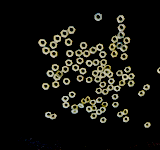nut: (95, 12, 103, 22), (38, 39, 48, 47), (117, 15, 126, 23), (61, 29, 69, 38), (54, 34, 62, 43), (49, 41, 58, 49), (42, 46, 50, 55), (118, 31, 126, 39), (68, 26, 76, 34), (50, 50, 58, 58), (65, 38, 73, 46), (80, 42, 88, 50), (116, 42, 124, 50), (109, 43, 117, 51), (121, 53, 129, 61), (90, 46, 98, 54), (83, 50, 91, 58), (66, 50, 74, 58), (65, 59, 73, 67), (52, 64, 60, 72), (72, 64, 80, 72), (52, 81, 60, 89), (121, 44, 128, 53), (118, 24, 126, 31), (112, 35, 119, 43), (97, 43, 104, 51), (111, 50, 118, 58), (99, 51, 107, 58), (76, 49, 83, 57), (86, 60, 94, 67), (77, 57, 84, 65), (62, 66, 69, 74), (56, 71, 64, 78), (116, 70, 124, 77), (86, 76, 93, 84), (143, 84, 151, 91), (138, 90, 146, 97), (42, 83, 50, 90), (63, 78, 71, 85), (128, 80, 136, 87), (108, 78, 116, 85), (124, 37, 131, 44), (125, 66, 132, 73), (101, 59, 108, 66), (93, 59, 100, 66), (54, 74, 61, 81), (105, 65, 112, 72), (97, 66, 104, 73), (80, 68, 87, 75), (92, 70, 99, 77), (104, 68, 111, 75), (107, 71, 114, 78), (100, 72, 107, 79), (95, 76, 102, 83), (77, 75, 84, 82), (129, 73, 136, 80), (122, 74, 129, 81), (119, 80, 126, 87), (114, 85, 121, 92), (96, 88, 103, 95), (122, 109, 129, 116), (69, 92, 76, 99), (63, 102, 70, 109), (50, 113, 57, 120), (96, 97, 103, 104), (81, 98, 88, 105), (100, 117, 107, 124), (86, 106, 93, 113), (91, 113, 98, 120), (47, 71, 55, 77), (102, 89, 110, 95), (112, 102, 120, 108), (62, 96, 70, 102), (99, 107, 107, 113), (100, 82, 107, 88), (108, 85, 115, 91), (112, 94, 119, 100), (123, 117, 130, 123), (45, 112, 52, 118), (102, 102, 109, 108), (84, 97, 91, 103), (90, 100, 97, 106), (78, 103, 85, 109), (72, 104, 79, 110), (96, 109, 103, 115), (118, 112, 124, 118), (92, 106, 98, 112), (72, 109, 79, 114), (145, 123, 151, 128), (157, 67, 160, 74)
